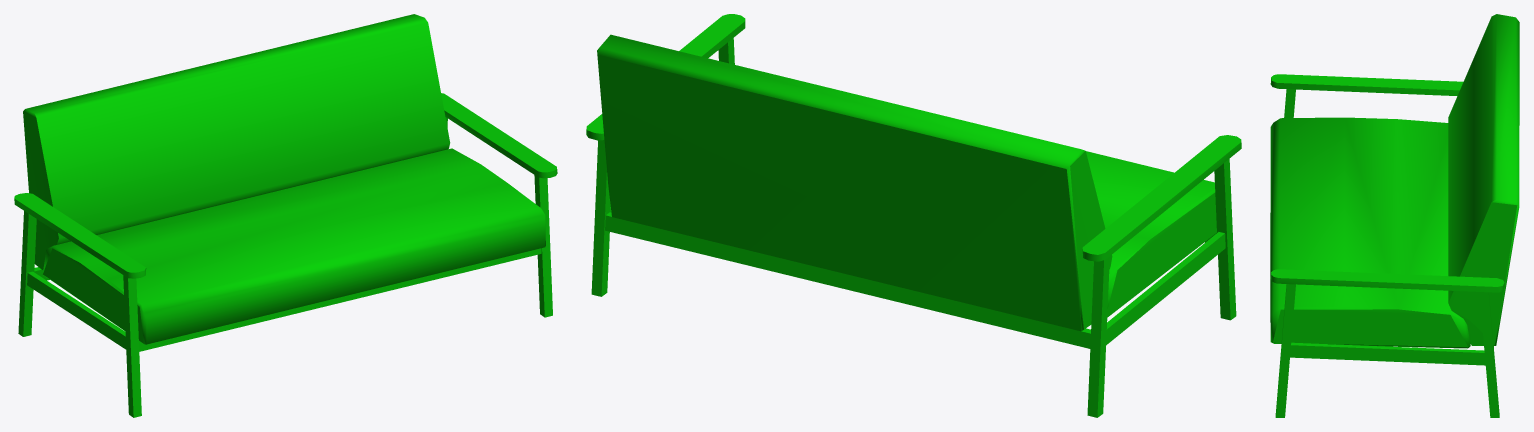
File: UCX_Sofa2.fbx
The picture shows the model from 3 angles, left to right: view 1: azimuth 30°, elevation 25°; view 2: azimuth 150°, elevation 25°; view 3: azimuth 270°, elevation 25°; orthographic projection. The views are drawn at different scales.
Visible parts, largest first — view 1: UCX_Sofa2; view 2: UCX_Sofa2; view 3: UCX_Sofa2.
Part boxes in pixels (left/top/right/bottom): UCX_Sofa2: left=14, top=14, right=557, bottom=417; UCX_Sofa2: left=586, top=14, right=1241, bottom=417; UCX_Sofa2: left=1270, top=14, right=1519, bottom=417.
Bounding box in the file's own units: 1.6 × 0.7742 × 0.8245.
